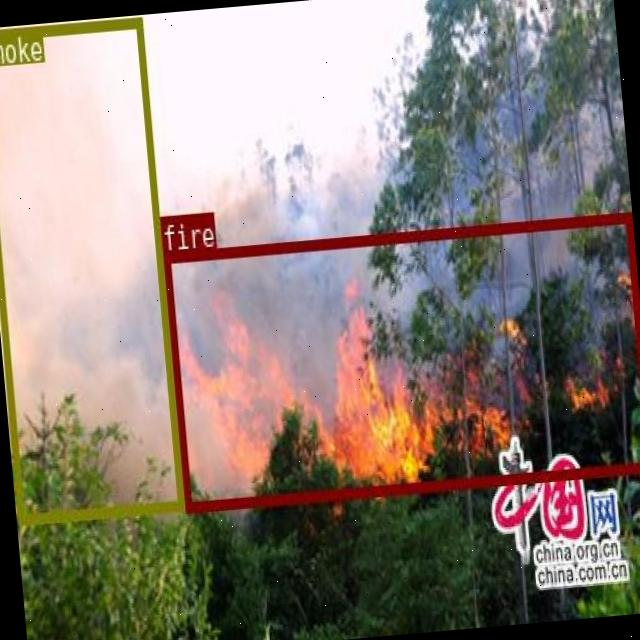fire: (162, 210, 640, 508)
smoke: (0, 15, 183, 523)
